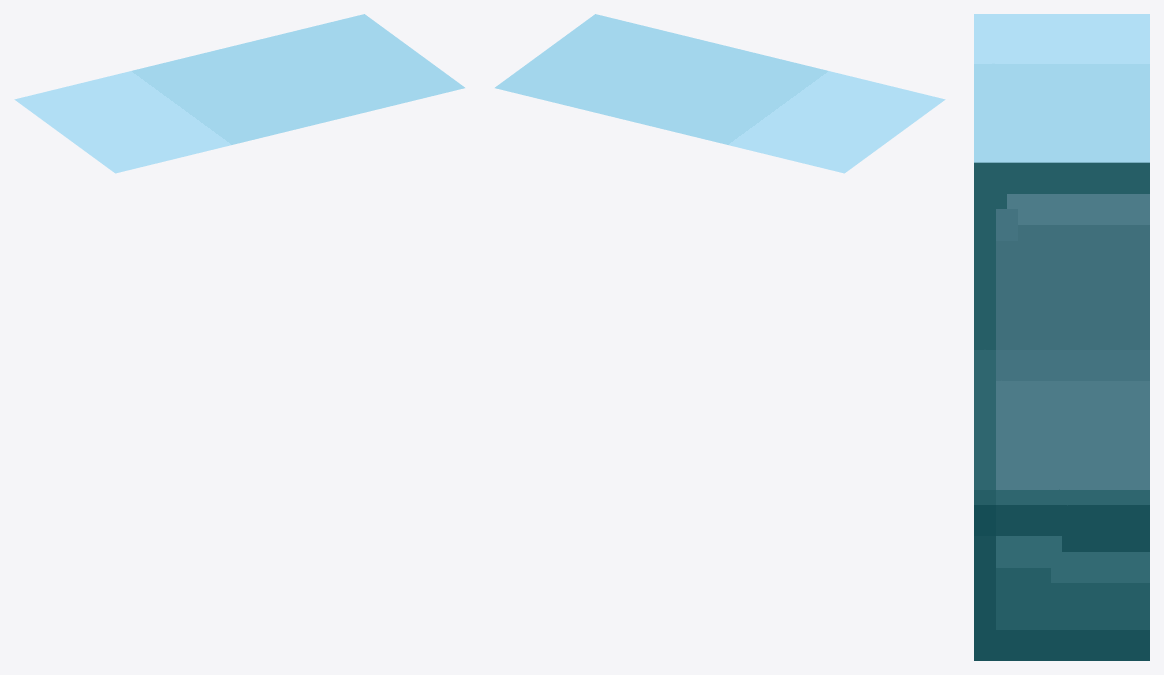
Rendered from hgss-centre-b1-mur-ouest-profil-0.glb.
3 views of the same model, side by side, from view 1: azimuth 30°, elevation 25°; view 2: azimuth 150°, elevation 25°; view 3: azimuth 270°, elevation 25° (orthographic). The views are drawn at different scales.
Bounding box in the file's own units: 2 × 3.12 × 1.
Materials: 2 (2 with a texture image).
